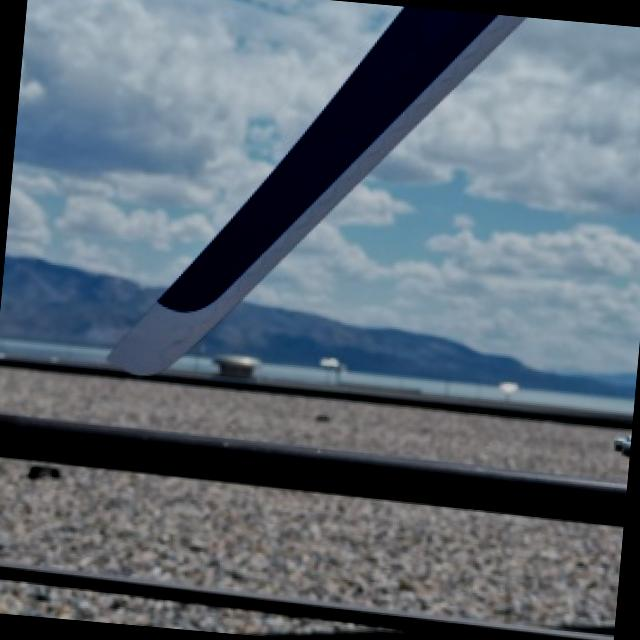healthy: (113, 6, 526, 373)
